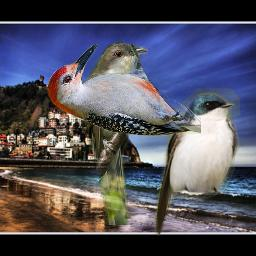Cuckoo: (85, 37, 148, 225)
Swallow: (155, 87, 240, 236)
Woodpecker: (48, 44, 201, 136)
